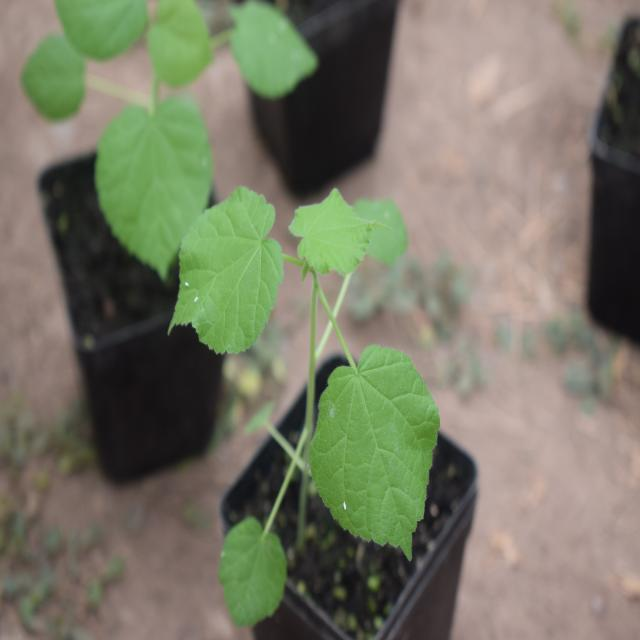abutilon theophrasti: (158, 156, 438, 584)
